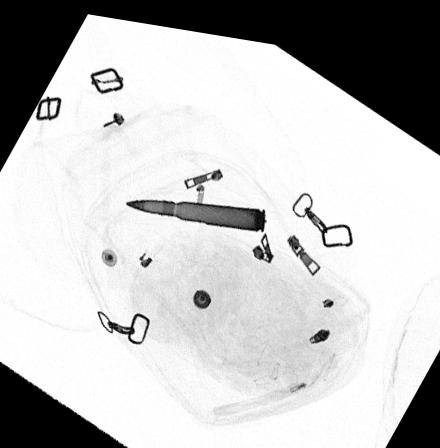Bullet: (124, 195, 266, 224)
